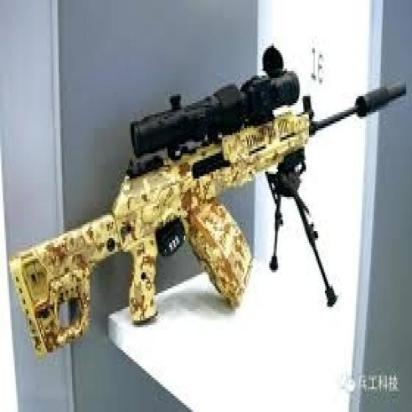Gun: (0, 41, 403, 334)
